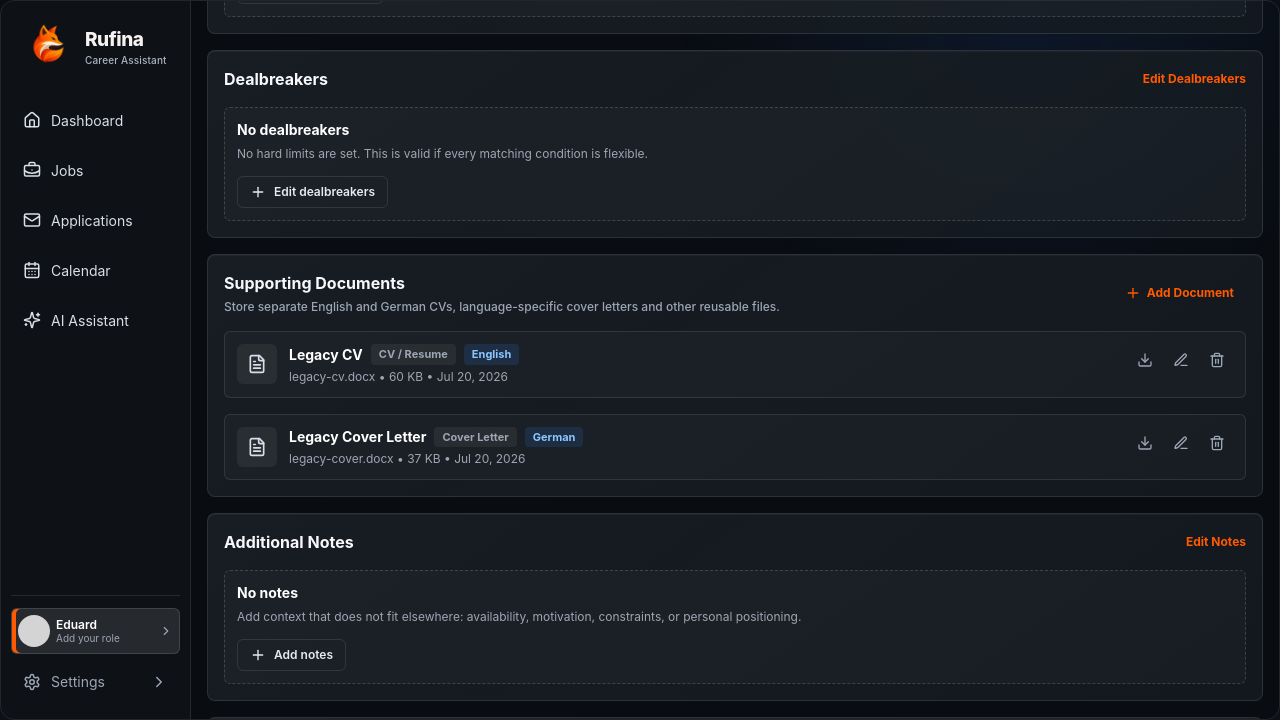
deletes a legacy supporting document that has no stored ID
(page scrolled)
expect the text "Legacy CV" is shown: met, box [289,346,363,362]
Click the button named "Delete document" in the row of "CV / Resume": (1217, 360) [1201,344,1233,376]
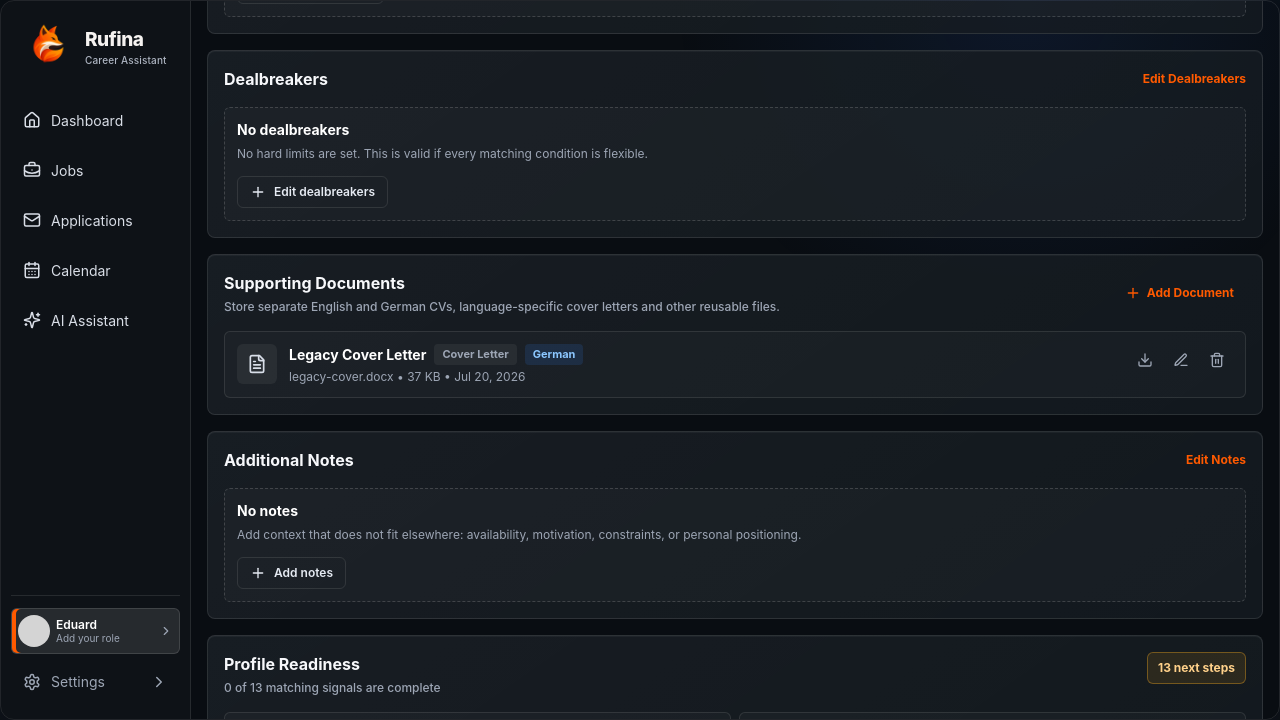
expect the heading "Legacy Cover Letter" is shown: met, box [289,344,426,364]
expect the heading "Legacy CV" is gone: met
